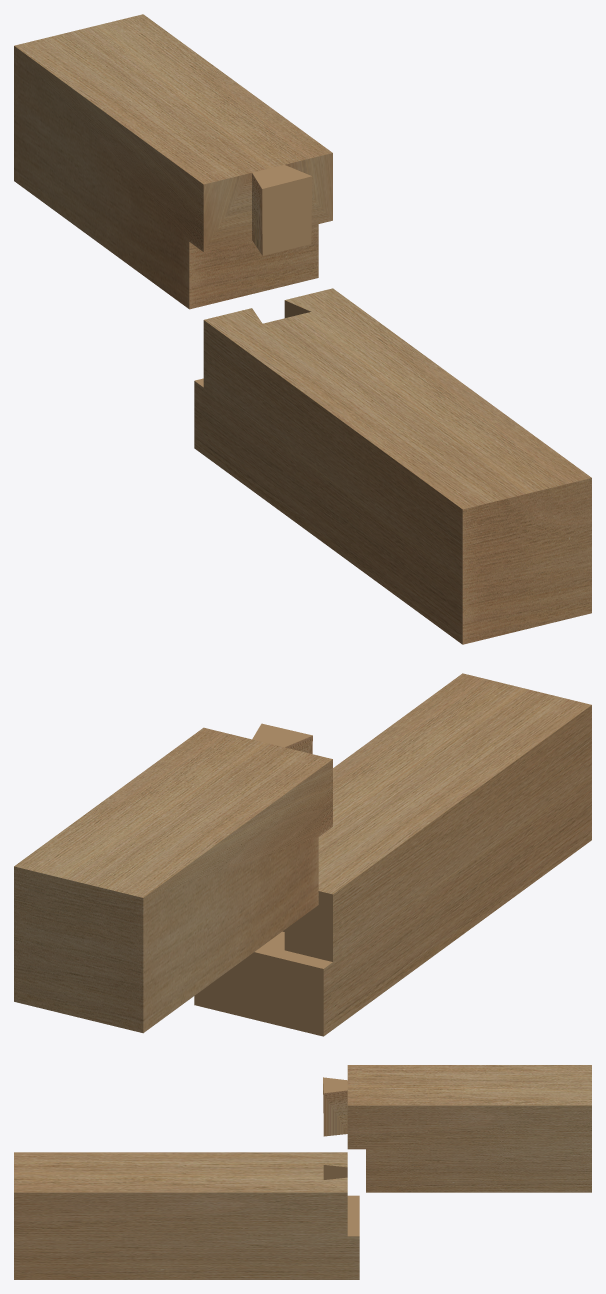
Rendered from Aritugi(0.4) 1.fbx.
3 renders of one model, top to bottom at view 1: azimuth 30°, elevation 25°; view 2: azimuth 150°, elevation 25°; view 3: azimuth 270°, elevation 25°, orthographic. The views are drawn at different scales.
Visible parts, largest first — view 1: Shitaki.001, Uwaki.001; view 2: Shitaki.001, Uwaki.001; view 3: Shitaki.001, Uwaki.001.
Boxes of the visible parts, x1,y1,x2,y2 form: Shitaki.001: [194, 288, 591, 644]; Uwaki.001: [14, 14, 332, 309]; Shitaki.001: [194, 673, 591, 1036]; Uwaki.001: [14, 723, 332, 1033]; Shitaki.001: [14, 1152, 359, 1279]; Uwaki.001: [323, 1065, 591, 1192].
Bounding box in the file's own units: 0.1212 × 0.2424 × 0.7284.
1 material, 1 textured.
